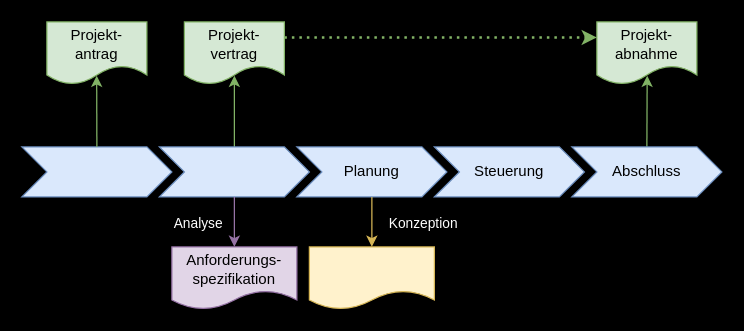
Image size: 744x331. Some labels were removed from this diagram. Here are the shapes that lost their labels. From the top down, the centre of each, then its label:
At point 96,171: "Initialisierung".
At point 233,171: "Definition".
At point 371,277: "System- spezifikation".
